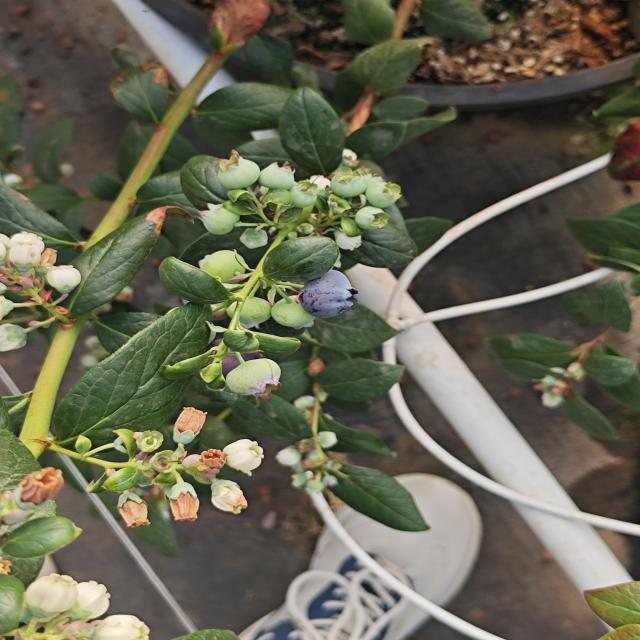ripe: (296, 262, 361, 322)
